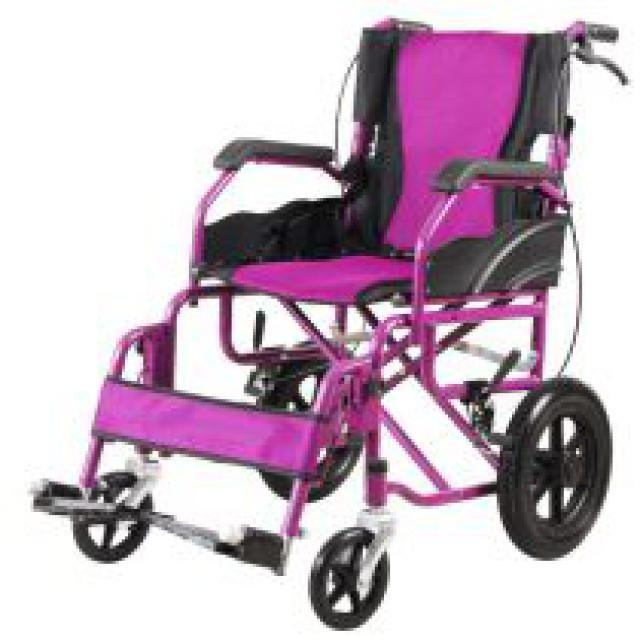wheelchair: (30, 9, 628, 634)
